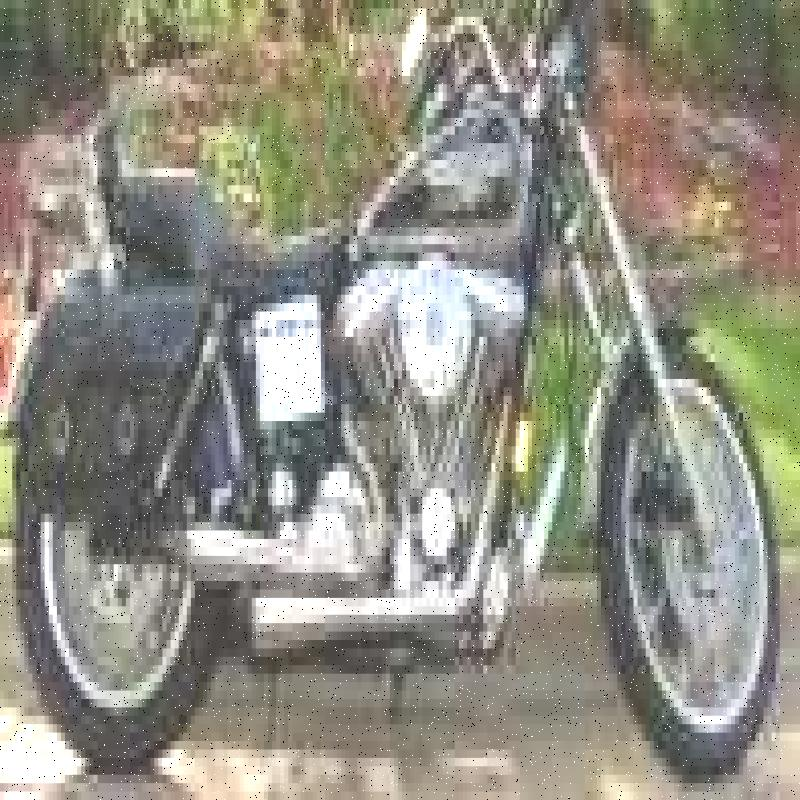bike: (4, 0, 782, 789)
